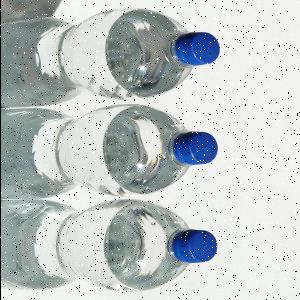Plastic-bottle: (2, 6, 221, 103), (2, 104, 219, 200), (2, 200, 218, 294)
